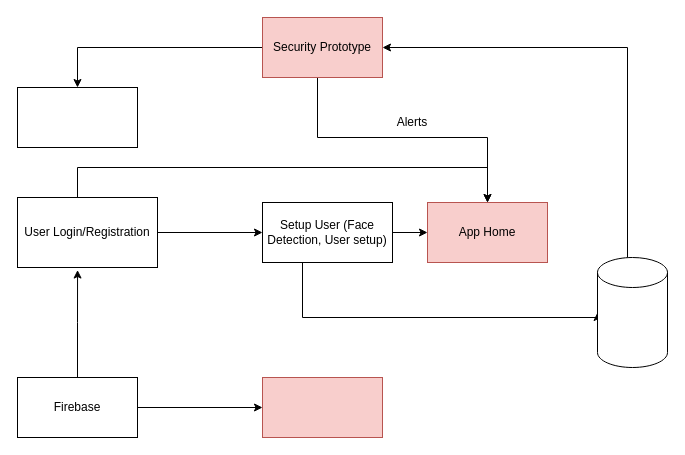
This 685x455 diagram has some shape labels left out. Each missing label, with the box of its shape:
Database: (596, 256, 668, 368)
Mail Alerts (SMTP): (16, 86, 138, 148)
NodeMCU: (262, 376, 382, 438)
